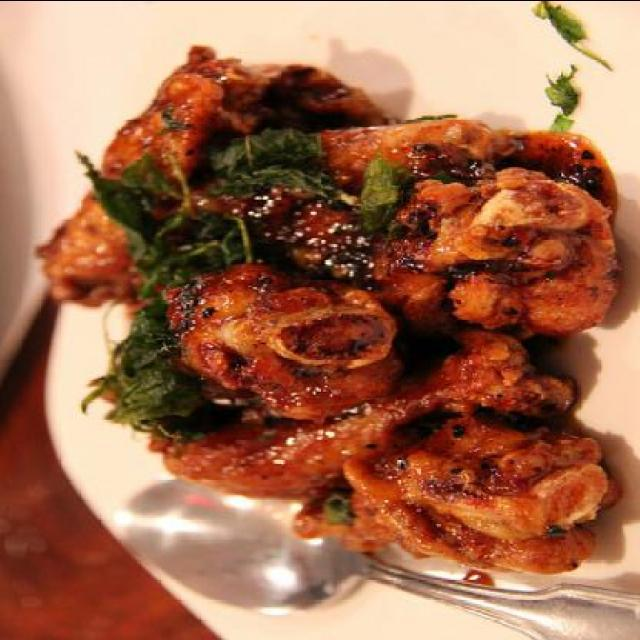Deep fried chicken wing: (76, 79, 610, 552)
